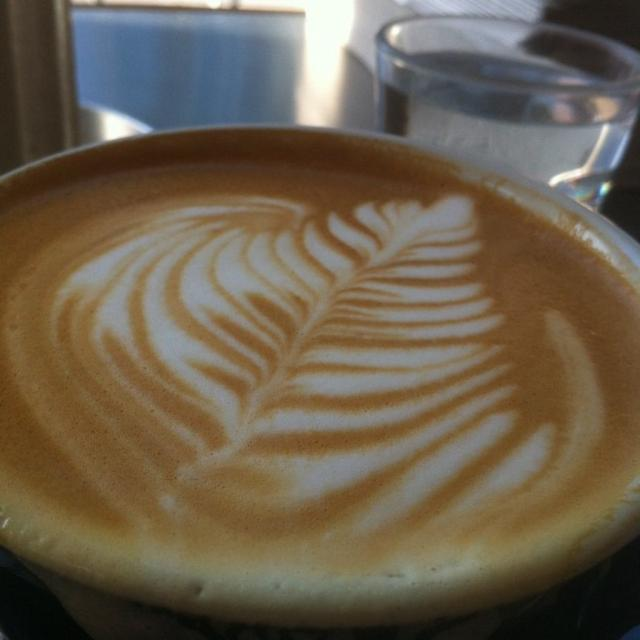Coffee: (0, 142, 639, 626)
